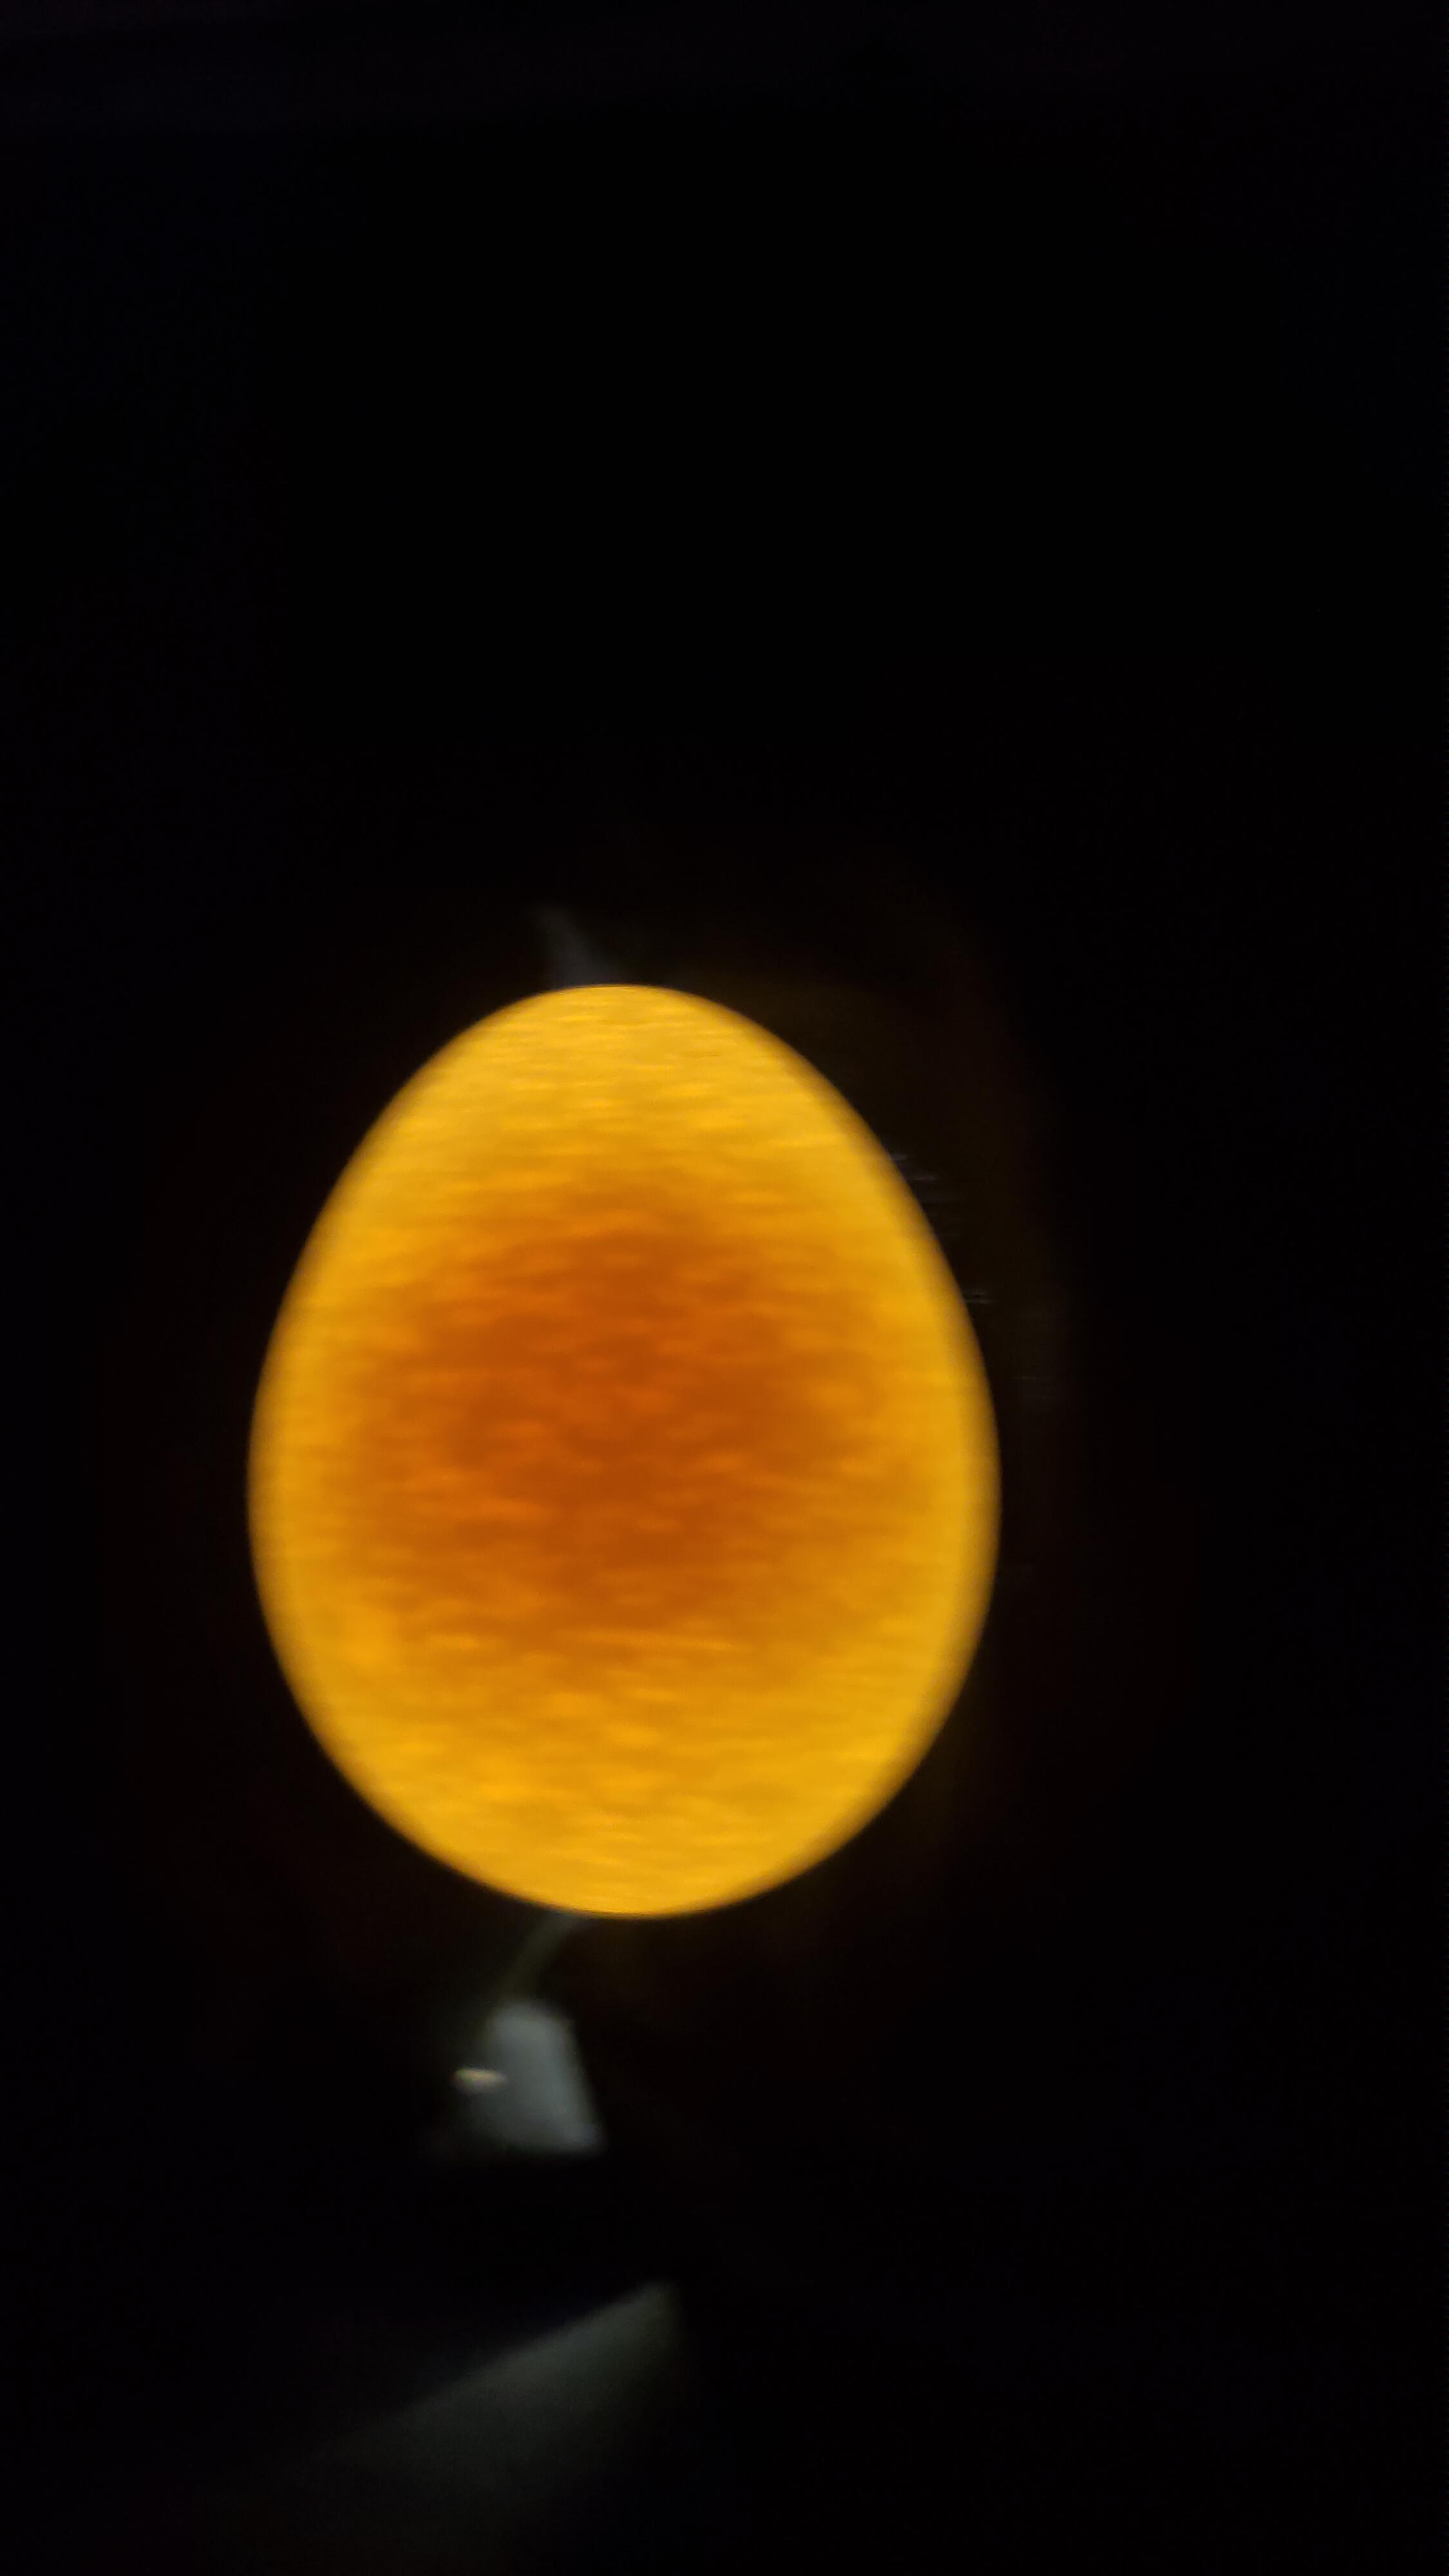A - Good: (188, 947, 1069, 1951)
